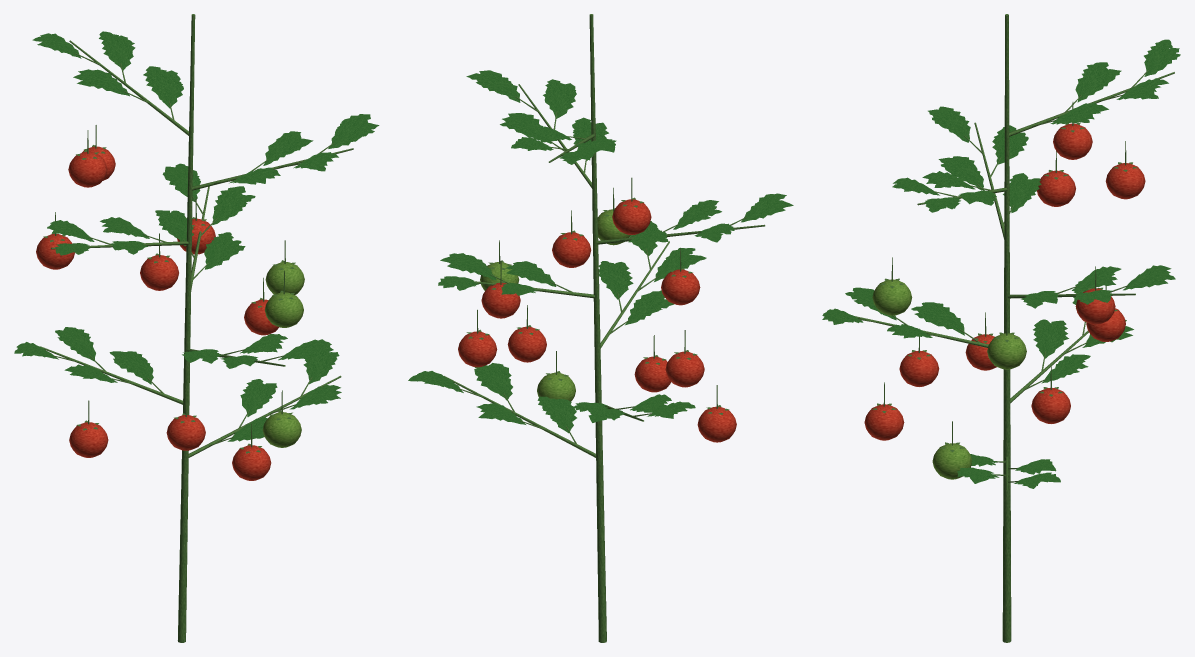
File: PZ_Crop_Tomato_Mature.glb
3 renders of one model, left to right at view 1: azimuth 30°, elevation 25°; view 2: azimuth 150°, elevation 25°; view 3: azimuth 270°, elevation 25°, orthographic.
Visible parts, largest first — view 1: PZ_Crop_Tomato_Mature_03_Serrated_Compound_Leaves, PZ_Crop_Tomato_Mature_05_Ripe_Or_Rotten_Fruits, PZ_Crop_Tomato_Mature_01_Tomato_Branches, PZ_Crop_Tomato_Mature_04_Green_Fruits, PZ_Crop_Tomato_Mature_02_Petioles; view 2: PZ_Crop_Tomato_Mature_03_Serrated_Compound_Leaves, PZ_Crop_Tomato_Mature_05_Ripe_Or_Rotten_Fruits, PZ_Crop_Tomato_Mature_01_Tomato_Branches, PZ_Crop_Tomato_Mature_04_Green_Fruits, PZ_Crop_Tomato_Mature_02_Petioles; view 3: PZ_Crop_Tomato_Mature_03_Serrated_Compound_Leaves, PZ_Crop_Tomato_Mature_05_Ripe_Or_Rotten_Fruits, PZ_Crop_Tomato_Mature_01_Tomato_Branches, PZ_Crop_Tomato_Mature_04_Green_Fruits, PZ_Crop_Tomato_Mature_02_Petioles.
Boxes of the visible parts, x1,y1,x2,y2 form: PZ_Crop_Tomato_Mature_03_Serrated_Compound_Leaves: (14,31,379,441); PZ_Crop_Tomato_Mature_05_Ripe_Or_Rotten_Fruits: (36,146,279,480); PZ_Crop_Tomato_Mature_01_Tomato_Branches: (40,14,353,642); PZ_Crop_Tomato_Mature_04_Green_Fruits: (262,262,304,447); PZ_Crop_Tomato_Mature_02_Petioles: (53,53,333,446); PZ_Crop_Tomato_Mature_03_Serrated_Compound_Leaves: (408,70,793,433); PZ_Crop_Tomato_Mature_05_Ripe_Or_Rotten_Fruits: (458,199,736,442); PZ_Crop_Tomato_Mature_01_Tomato_Branches: (444,14,765,642); PZ_Crop_Tomato_Mature_04_Green_Fruits: (480,209,630,401); PZ_Crop_Tomato_Mature_02_Petioles: (458,96,746,443); PZ_Crop_Tomato_Mature_03_Serrated_Compound_Leaves: (822,39,1180,488); PZ_Crop_Tomato_Mature_05_Ripe_Or_Rotten_Fruits: (864,123,1145,440); PZ_Crop_Tomato_Mature_01_Tomato_Branches: (855,14,1174,642); PZ_Crop_Tomato_Mature_04_Green_Fruits: (872,279,1026,479); PZ_Crop_Tomato_Mature_02_Petioles: (859,70,1148,482).
Bounding box in the file's own units: 0.7151 × 1.3 × 0.6661.
4 materials, 4 textured.
